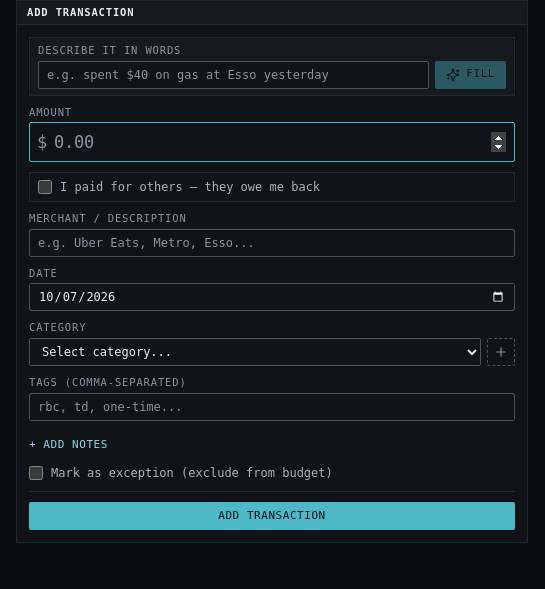
Test: categorisation tier 3 — the AI › is reached only once keywords and the classifier have both passed
In the dropdown labelled "Merchant / Description": [272, 243] box top-left (29, 229), bottom-right (515, 257), type "Blorptronix"
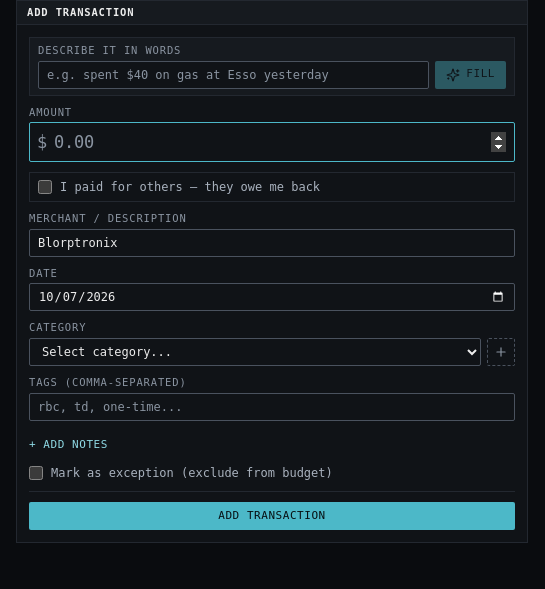
Leave the dropdown labelled "Merchant / Description", box top-left (29, 229), bottom-right (515, 257)
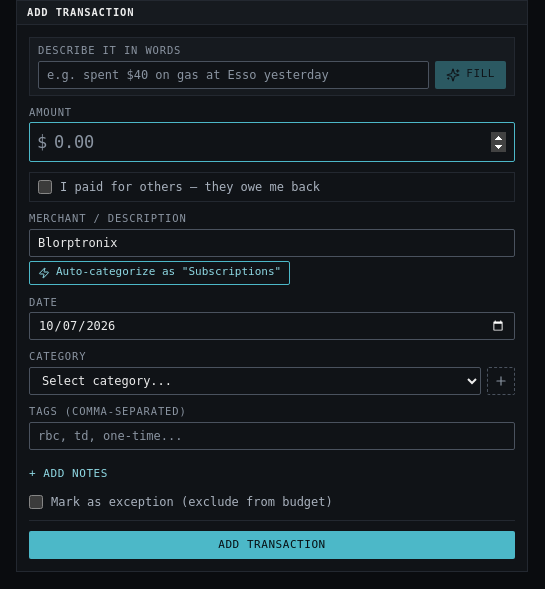
Expected: the button "Auto-categorize as \"Subscriptions\"" reads "Auto-categorize as \"Subscriptions\"", top-left (29, 261), bottom-right (290, 285)
